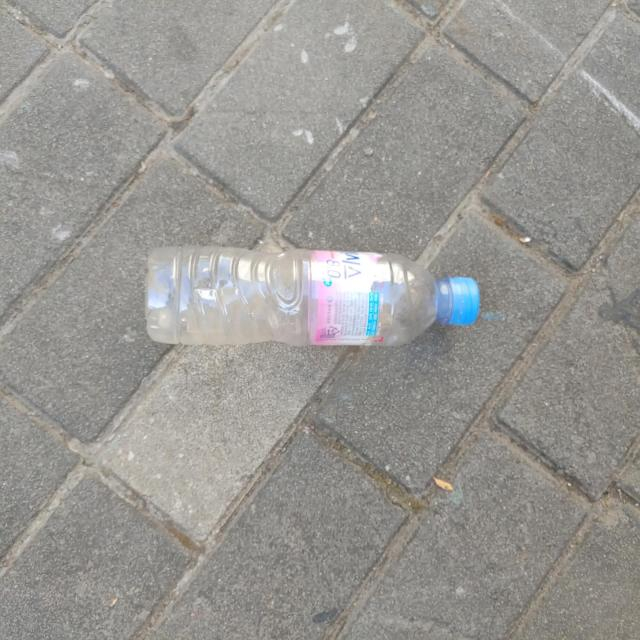plastic: (145, 246, 480, 346)
